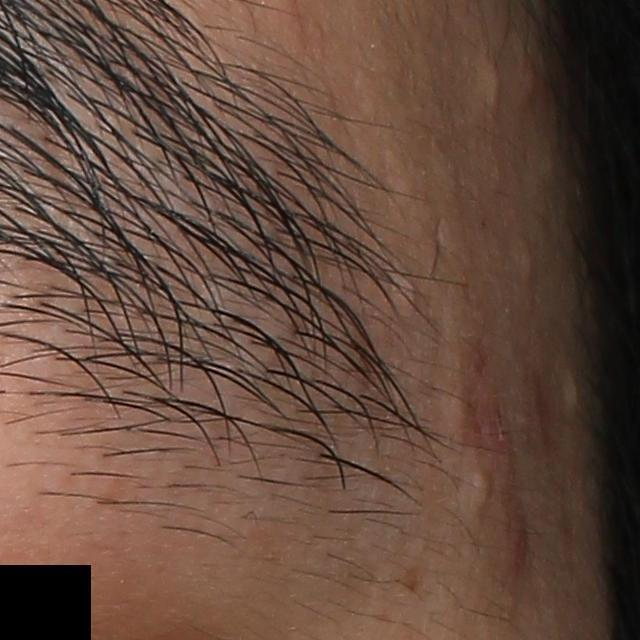papule: (506, 521, 534, 579)
